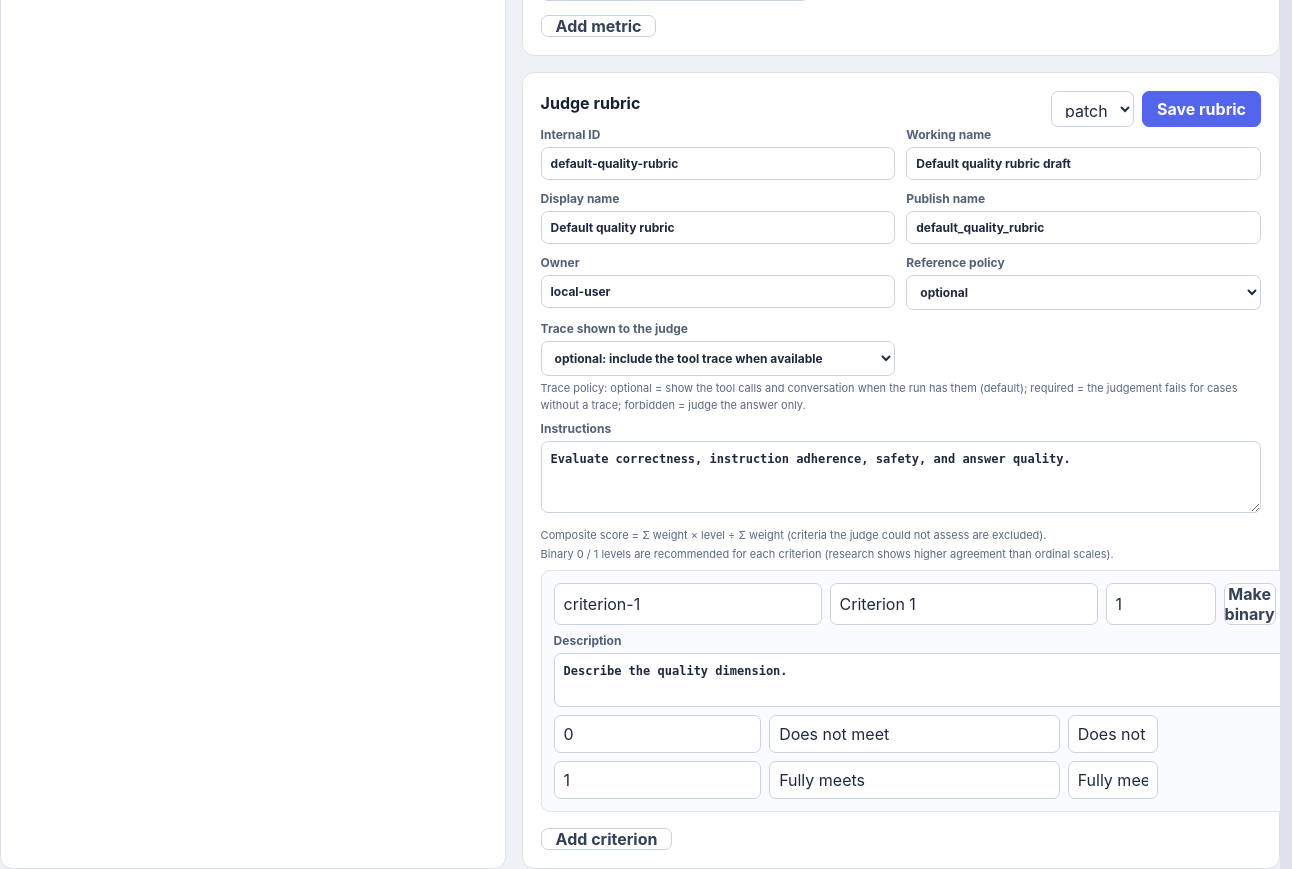
Test: DatasetsTab の Judge Rubric 編集（実行履歴ポリシー・二値化・重みの説明） › 二値化しても Save は有効のままで、基準 ID を空にすると無効になる（既存の検証は変えない）
(page scrolled)
Click the button with aria-label "Make criterion 1 binary". click: (1250, 604)
box: [1224, 583, 1276, 625]
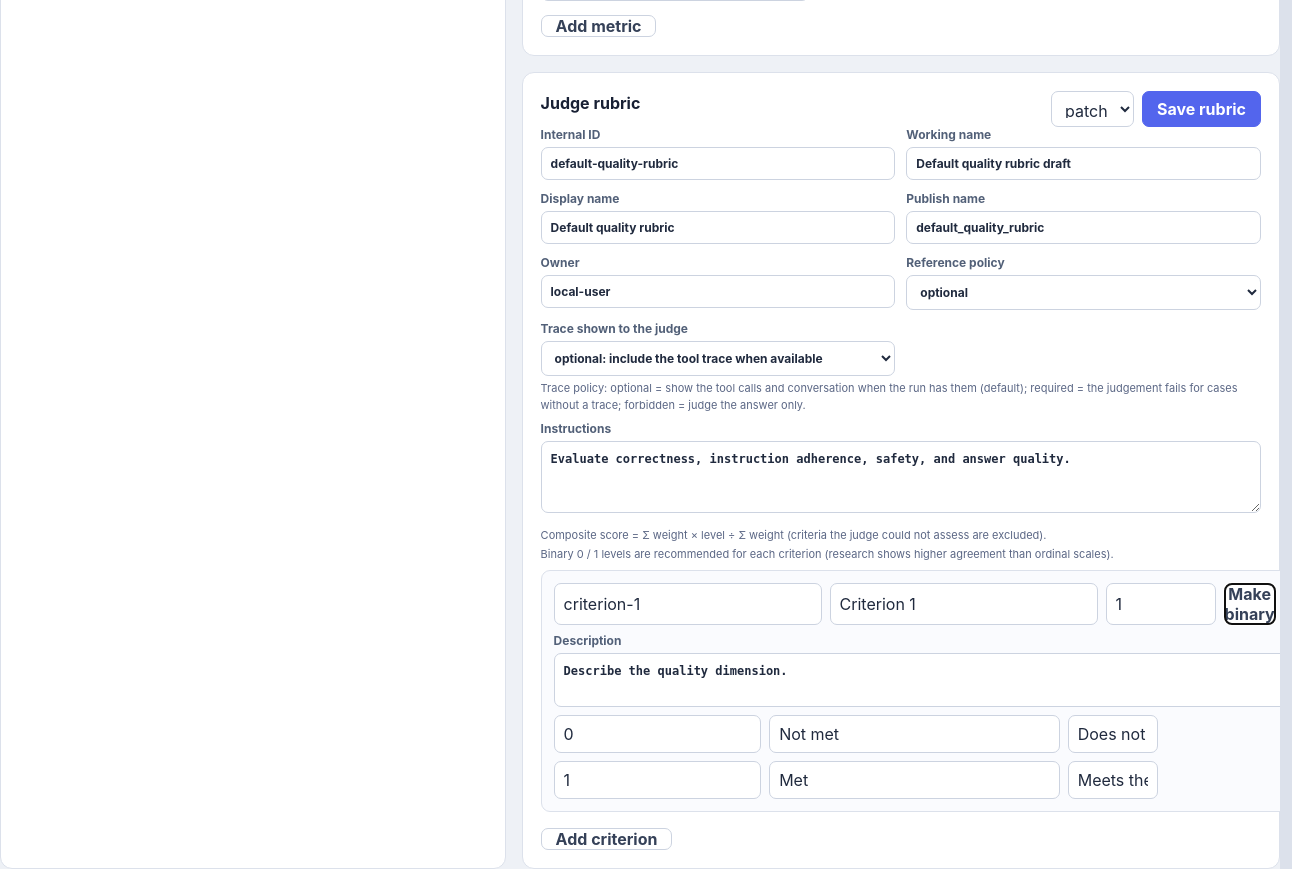
Check: the button "Save rubric" is enabled, box [1142, 91, 1261, 127]
Clear the field named "Criterion 1 ID". click: (688, 604)
box: [554, 583, 822, 625]
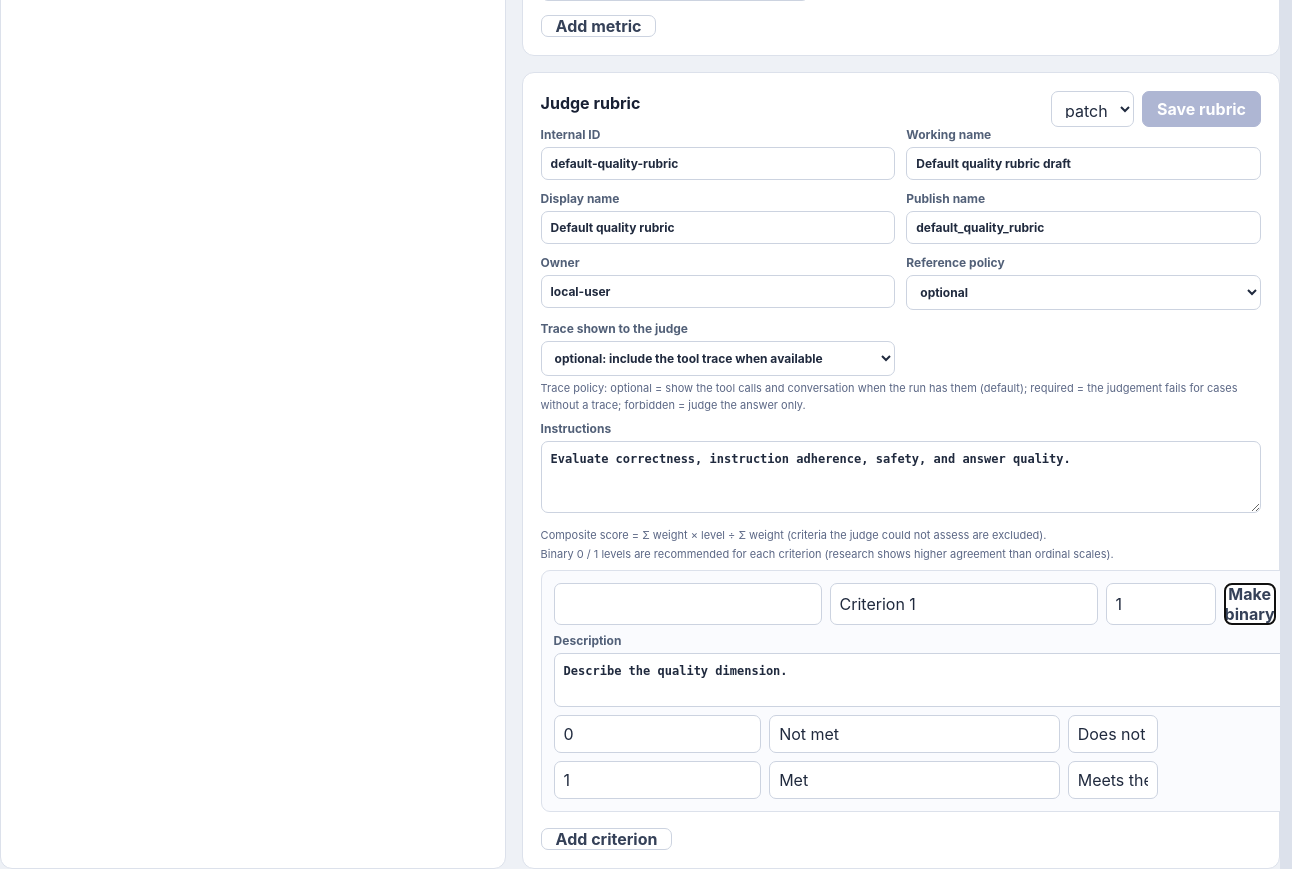
Check: the button "Save rubric" is disabled, box [1142, 91, 1261, 127]
